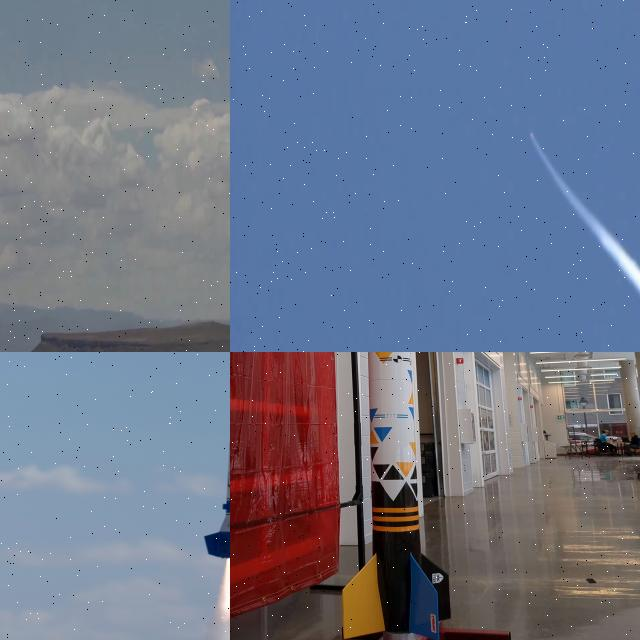Rocket: (342, 352, 451, 640), (203, 418, 230, 560), (530, 131, 535, 140)
